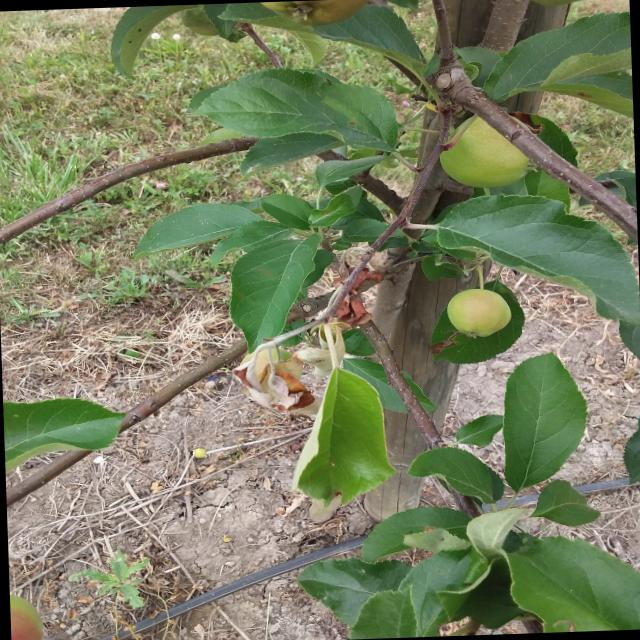-FireBlight-: (323, 243, 376, 354), (226, 350, 292, 407)
